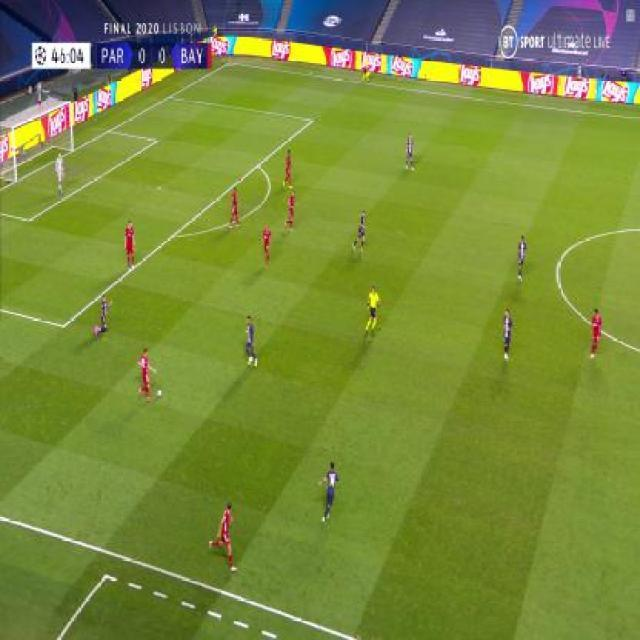ball: (156, 389, 162, 400)
player: (209, 501, 238, 575), (317, 460, 342, 523), (137, 347, 157, 403), (93, 294, 116, 337), (242, 315, 259, 371), (363, 285, 380, 338), (589, 309, 603, 360), (501, 308, 514, 362), (352, 210, 368, 253), (515, 235, 528, 283), (125, 218, 136, 274), (284, 190, 298, 233), (228, 188, 241, 230), (281, 150, 294, 189), (262, 223, 273, 269), (55, 152, 66, 197), (406, 132, 415, 171), (360, 55, 371, 84)
